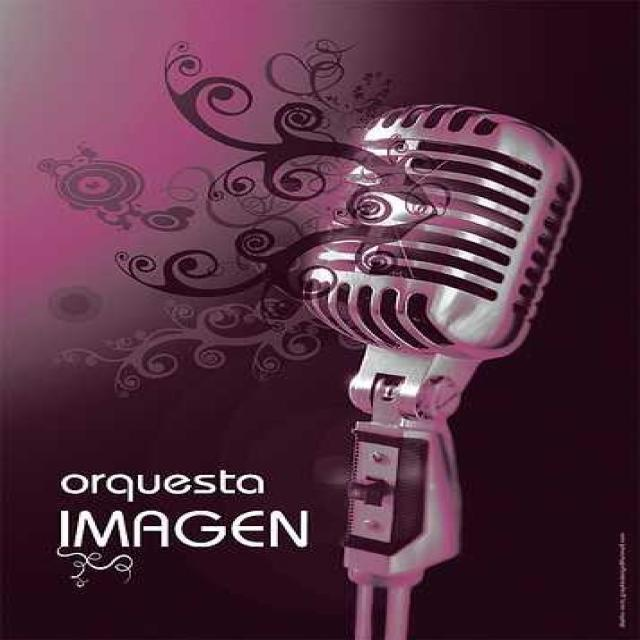microphone: (289, 107, 580, 631)
